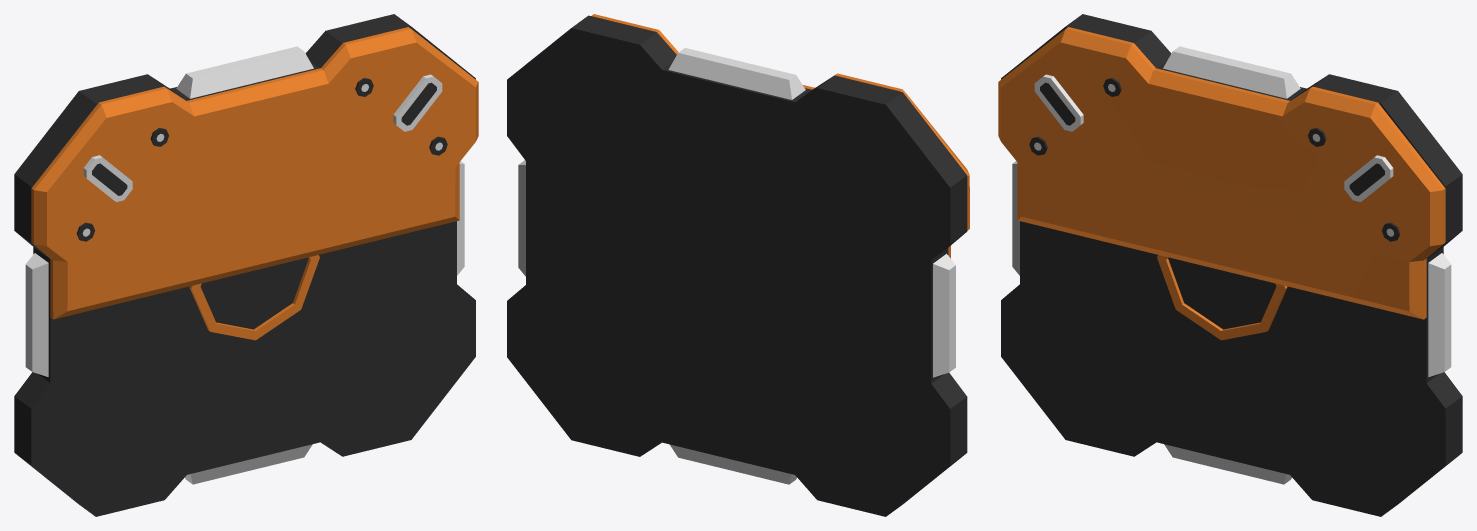
Rendered from boss-shield.fbx.
3 renders of one model, left to right at view 1: azimuth 30°, elevation 25°; view 2: azimuth 150°, elevation 25°; view 3: azimuth 330°, elevation 25°, orthographic.
Parts seen in each view (by area): view 1: boss-shield-body, boss-shield-volet, boss-shield-barrel; view 2: boss-shield-body, boss-shield-volet; view 3: boss-shield-body, boss-shield-volet, boss-shield-barrel.
Boxes of the visible parts, left/top/right/bottom form: boss-shield-body: left=14, top=14, right=475, bottom=516; boss-shield-volet: left=31, top=27, right=478, bottom=319; boss-shield-barrel: left=189, top=255, right=319, bottom=340; boss-shield-body: left=507, top=15, right=967, bottom=516; boss-shield-volet: left=591, top=14, right=969, bottom=258; boss-shield-body: left=1001, top=14, right=1462, bottom=516; boss-shield-volet: left=998, top=27, right=1445, bottom=319; boss-shield-barrel: left=1157, top=255, right=1287, bottom=340.
Size of the model in its own units: 90 by 80.05 by 9.76.
